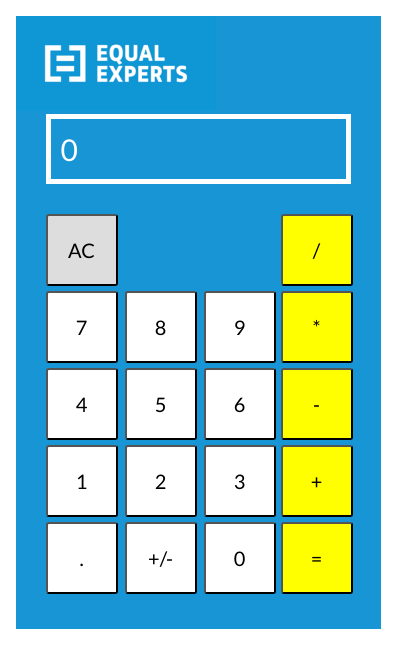
Test case: a decimal point can be added
Click the button "0" at (240, 558), box [204,522,276,594]
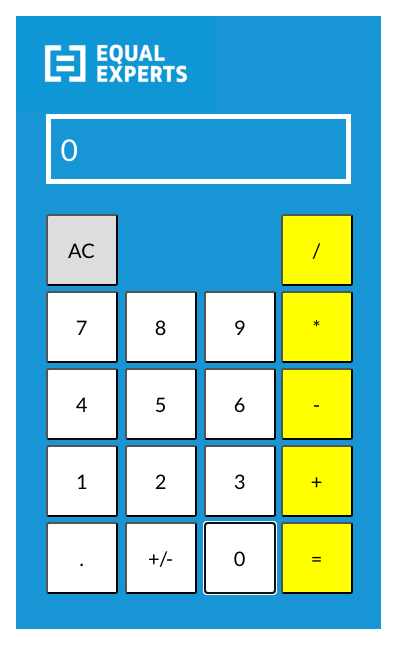
Click the button "." at (82, 558), box [46,522,118,594]
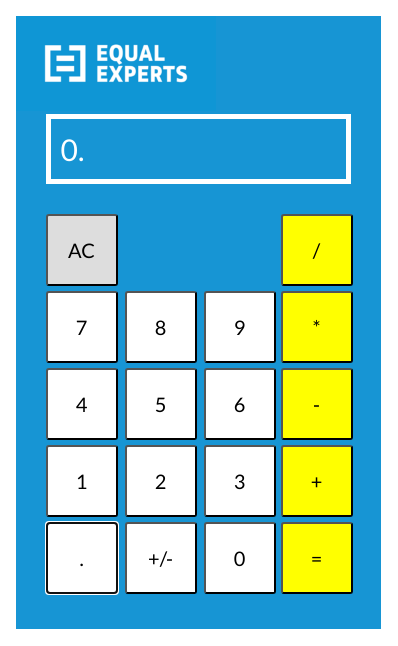
Click the button "0" at (240, 558), box [204,522,276,594]
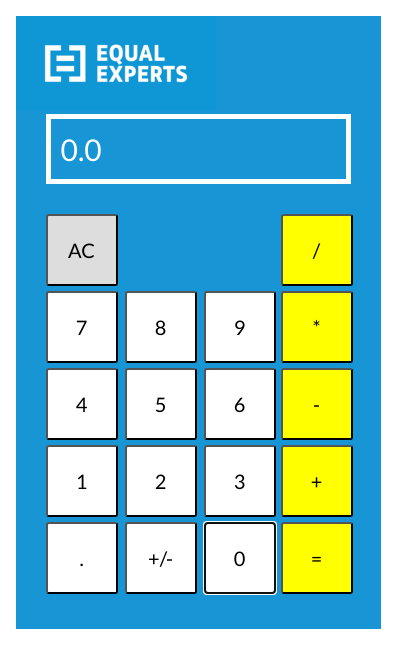
Click the button "1" at (82, 481), box [46,445,118,517]
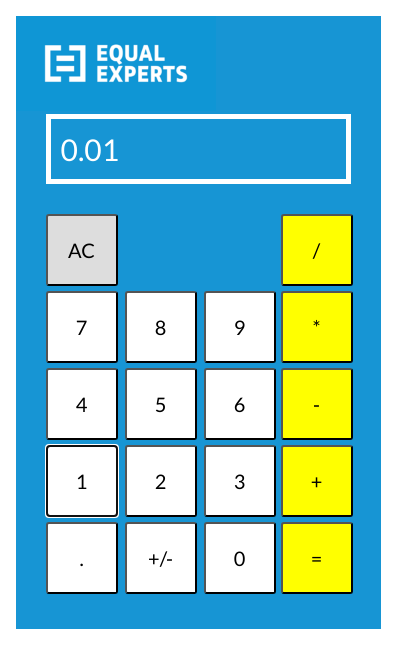
Check: the message reads "0.01", box [60,131,119,167]
